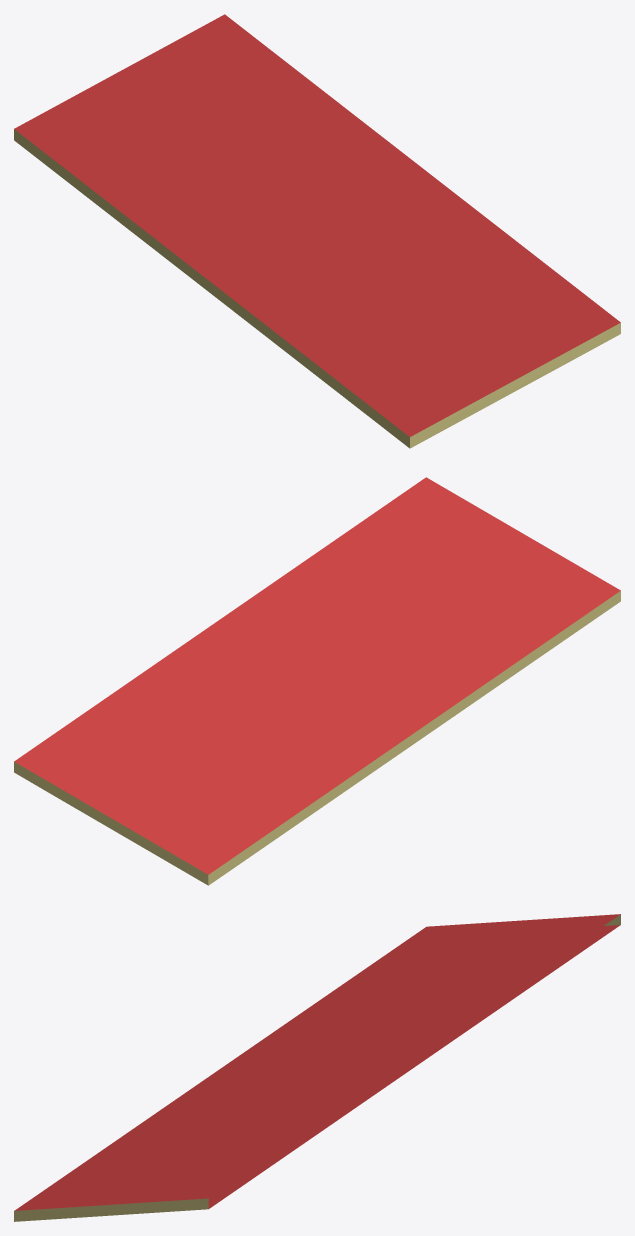
The picture shows the model from 3 angles, top to bottom: view 1: azimuth 30°, elevation 25°; view 2: azimuth 150°, elevation 25°; view 3: azimuth 330°, elevation 25°; orthographic projection. The views are drawn at different scales.
Size of the model in its own units: 2.07 by 6.62 by 0.679.
